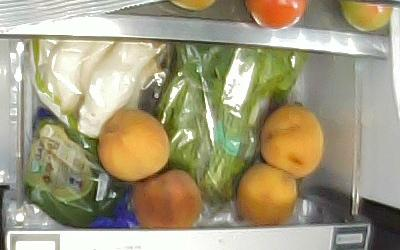peach: (98, 109, 170, 183), (258, 105, 324, 177), (131, 168, 202, 226), (237, 162, 298, 223)
